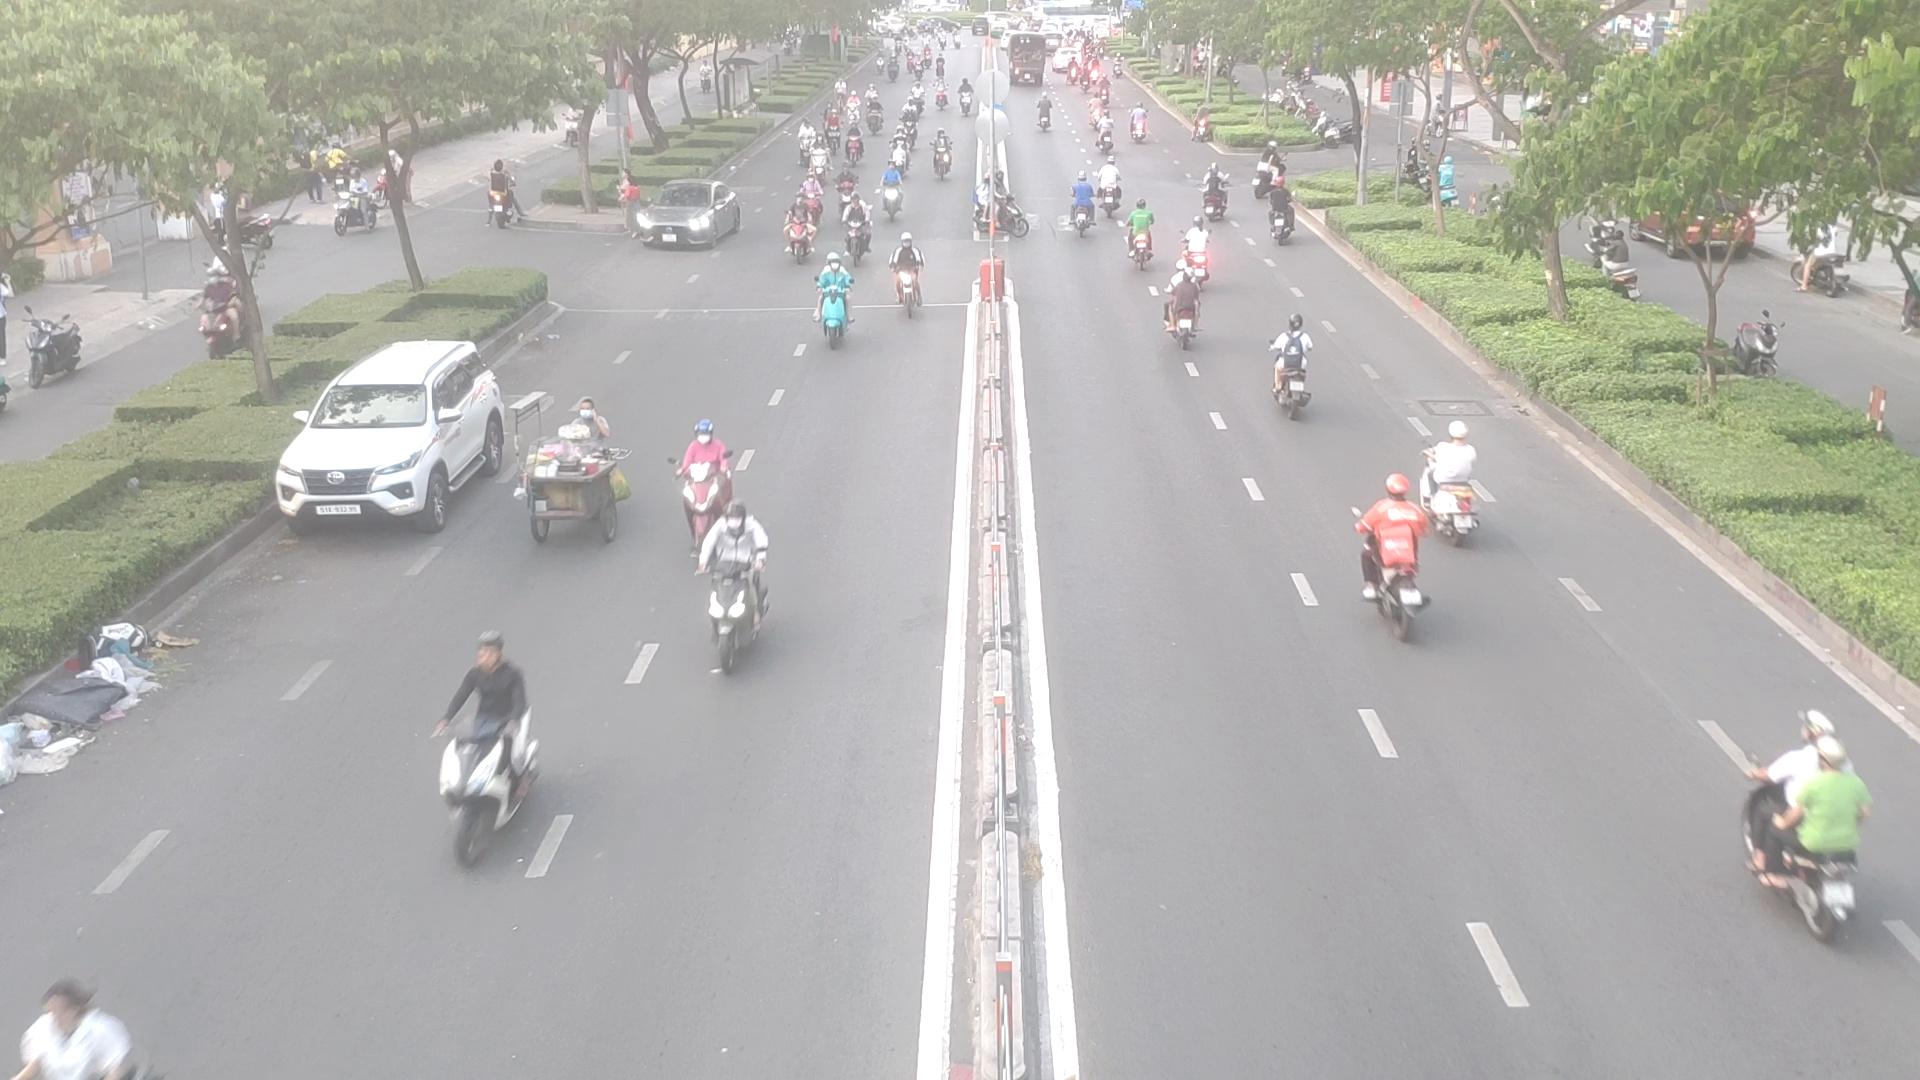car: (276, 348, 530, 538), (626, 185, 754, 251)
motorbike: (1734, 719, 1883, 942), (423, 675, 537, 869), (698, 502, 775, 691), (1348, 491, 1439, 640), (674, 423, 750, 549), (1406, 438, 1494, 542), (1262, 322, 1323, 419), (804, 270, 858, 349), (882, 249, 928, 326), (1159, 278, 1204, 352), (1174, 227, 1218, 291), (1125, 208, 1164, 272), (1062, 182, 1102, 241), (783, 206, 822, 266), (839, 204, 876, 261), (1193, 174, 1233, 222), (872, 171, 905, 219), (1267, 200, 1300, 248), (931, 142, 957, 185), (1129, 111, 1156, 144), (1034, 103, 1059, 135)
